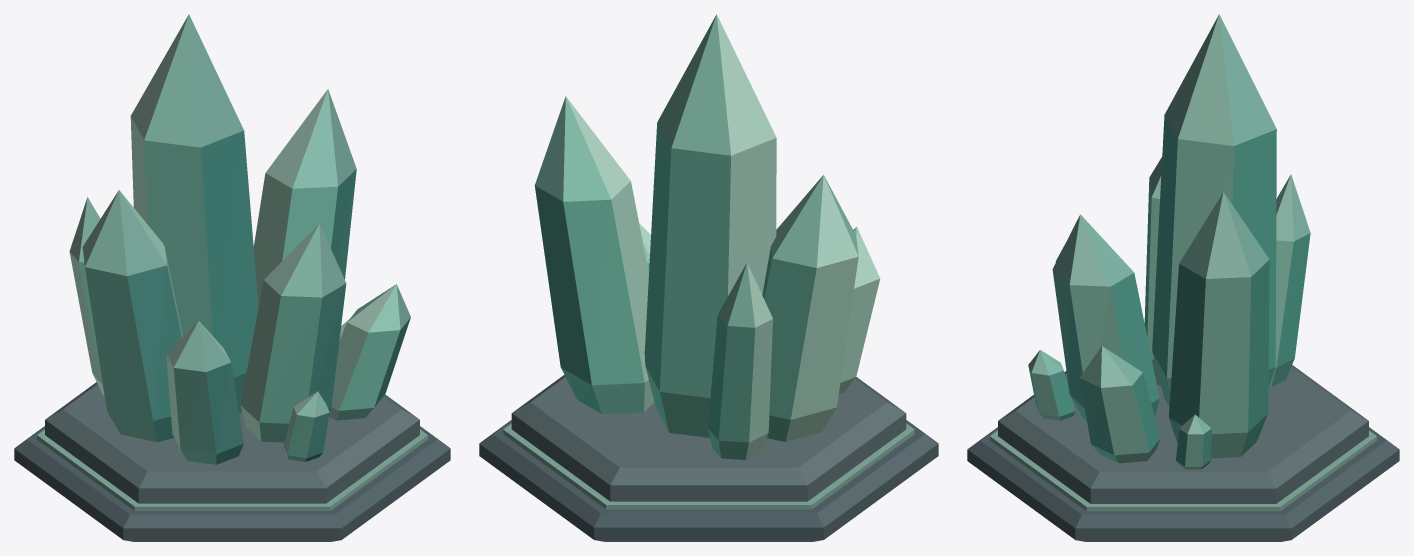
3 views of the same model, side by side, from view 1: azimuth 30°, elevation 25°; view 2: azimuth 150°, elevation 25°; view 3: azimuth 270°, elevation 25° (orthographic). The views are drawn at different scales.
Parts seen in each view (by area): view 1: geometry_0; view 2: geometry_0; view 3: geometry_0.
Part boxes in pixels (x1,y1,x2,y2): geometry_0: (14, 14, 450, 541); geometry_0: (479, 14, 938, 541); geometry_0: (967, 14, 1399, 541).
Bounding box in the file's own units: 2.32 × 3.04 × 2.68.
